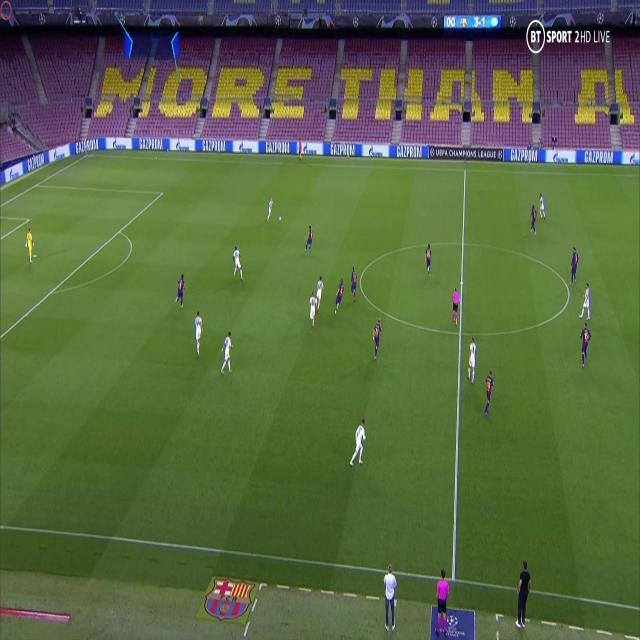ball: (278, 214, 283, 223)
player: (350, 416, 367, 466), (218, 330, 235, 375), (577, 323, 591, 369), (192, 308, 204, 356), (370, 319, 383, 360), (578, 281, 591, 322), (483, 368, 494, 416), (467, 334, 477, 385), (174, 271, 187, 310), (232, 242, 244, 283), (569, 246, 579, 287), (24, 225, 34, 264), (314, 275, 324, 313), (334, 278, 344, 316), (451, 287, 460, 326), (424, 242, 434, 277), (349, 266, 358, 302), (308, 292, 317, 328), (266, 195, 276, 226), (529, 203, 538, 236), (536, 193, 546, 221), (305, 224, 313, 255), (296, 138, 304, 165)
